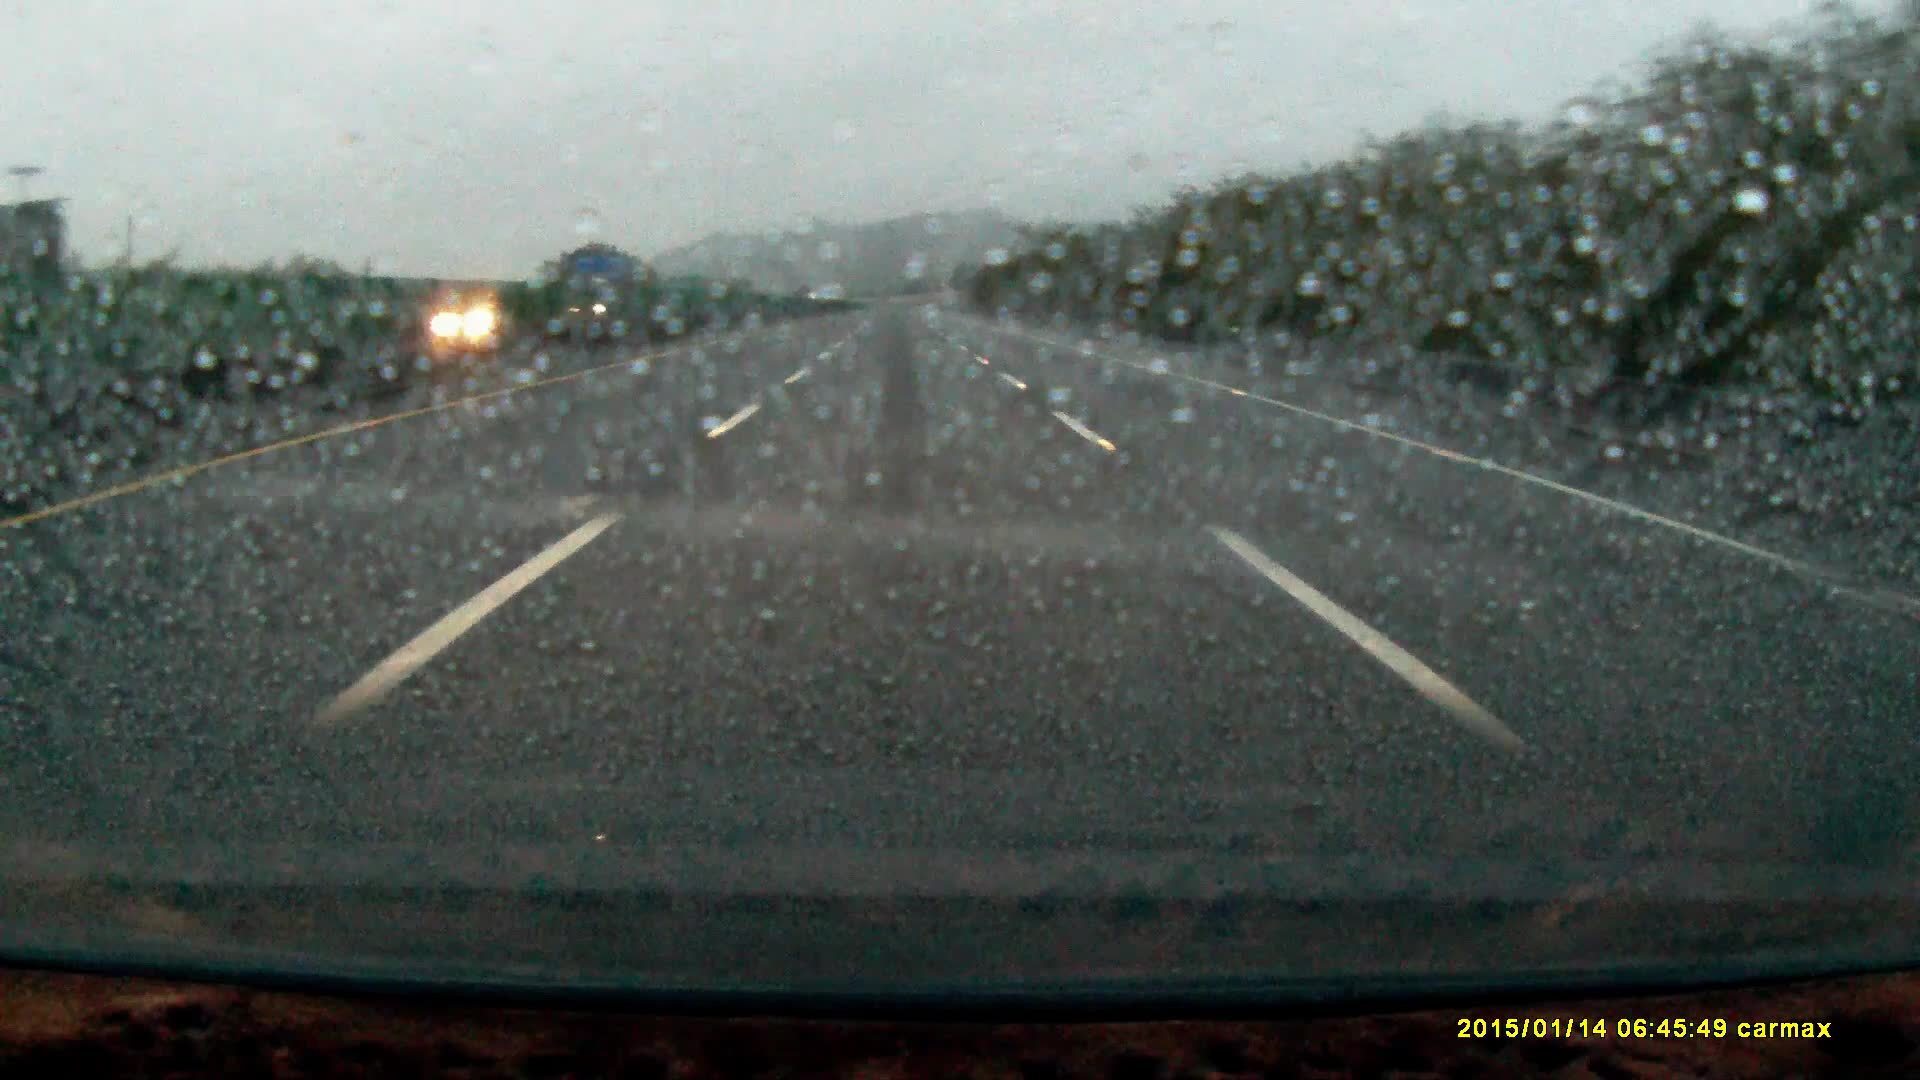vehicle: (442, 302, 512, 332)
